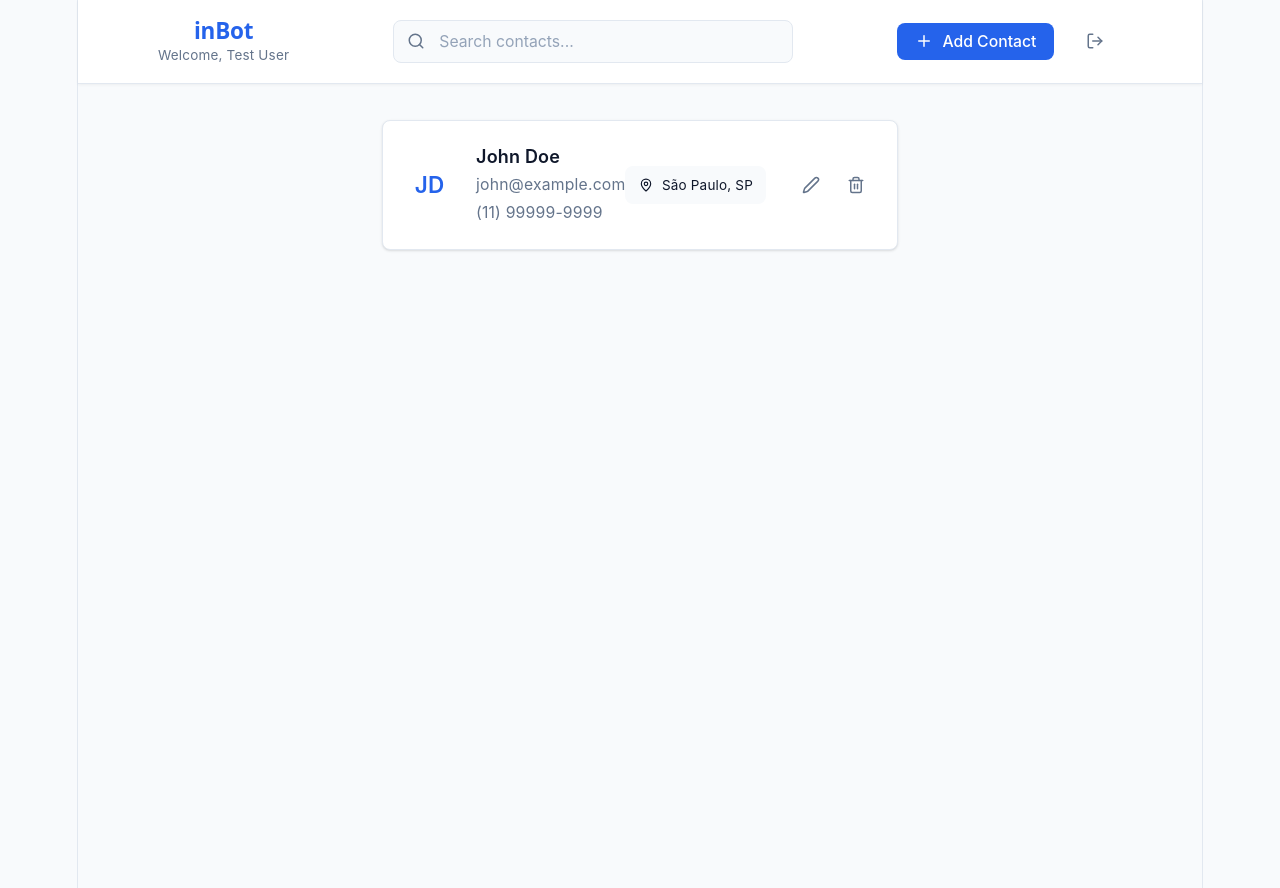
Contacts Integration › should fill address automatically when CEP is entered
Click the button "Add Contact". click: point(976, 41)
box: [897,23,1054,60]
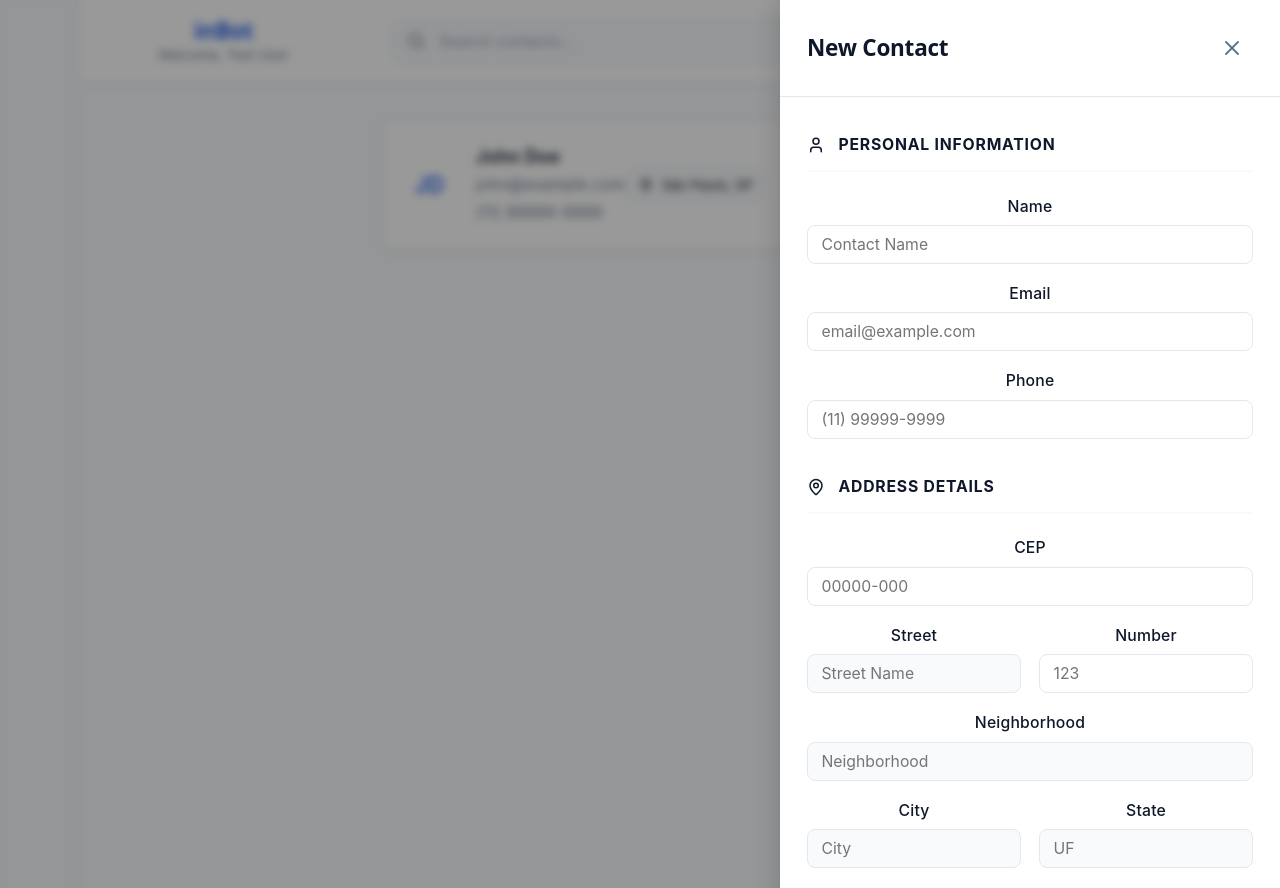
Type "01001000" into the field labelled "CEP". click: point(1030, 586)
box: [807,567,1253,606]
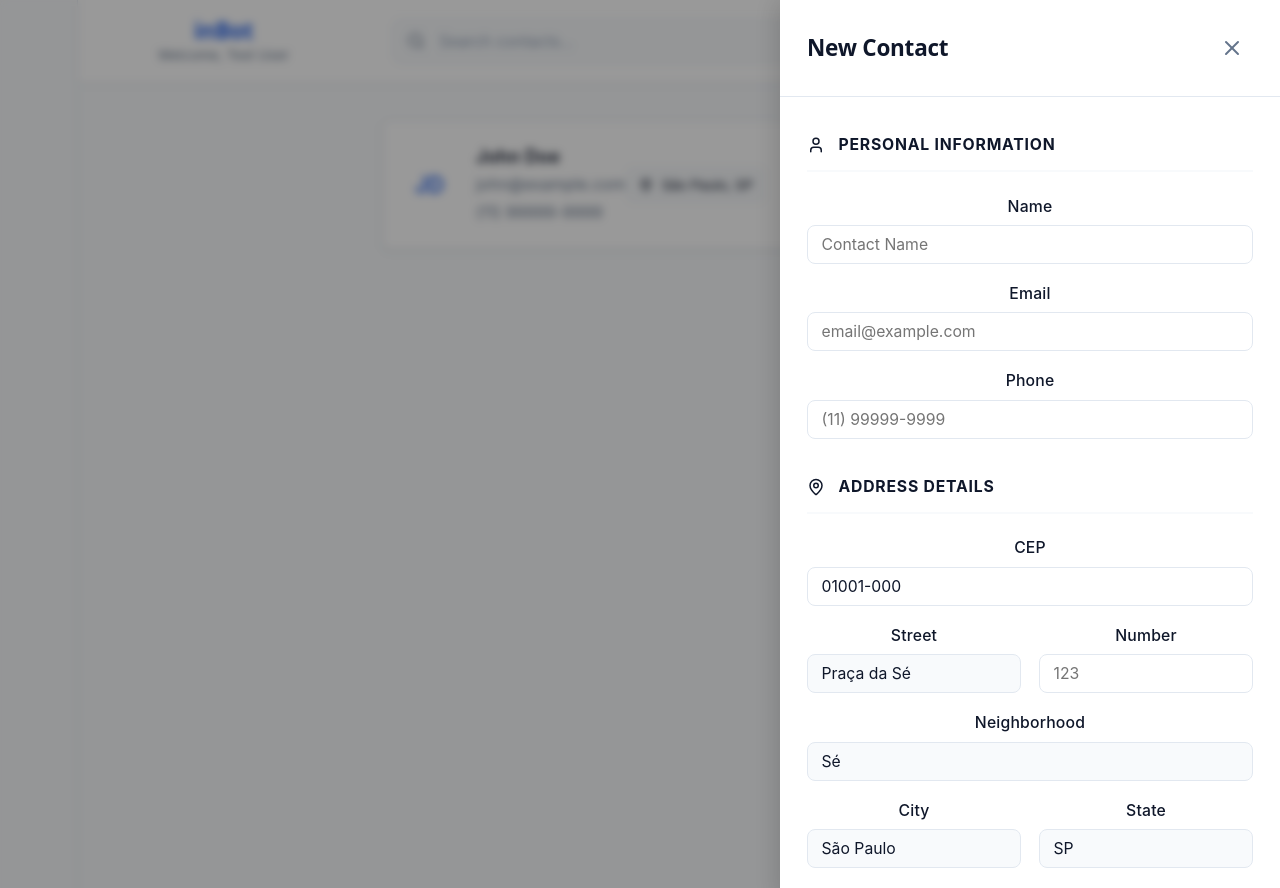
Expected: the field labelled "Street" holds "Praça da Sé", [807,654,1021,693]
Expected: the field labelled "City" holds "São Paulo", [807,829,1021,868]
